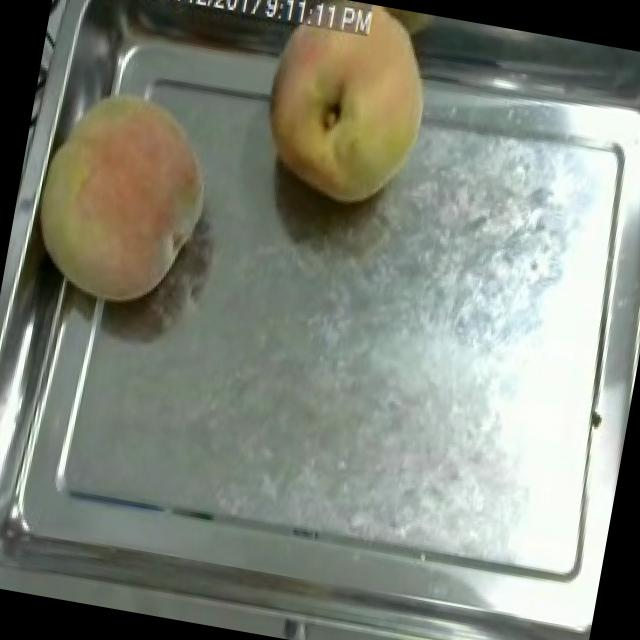Fruit: (18, 65, 232, 322), (243, 0, 447, 220)
